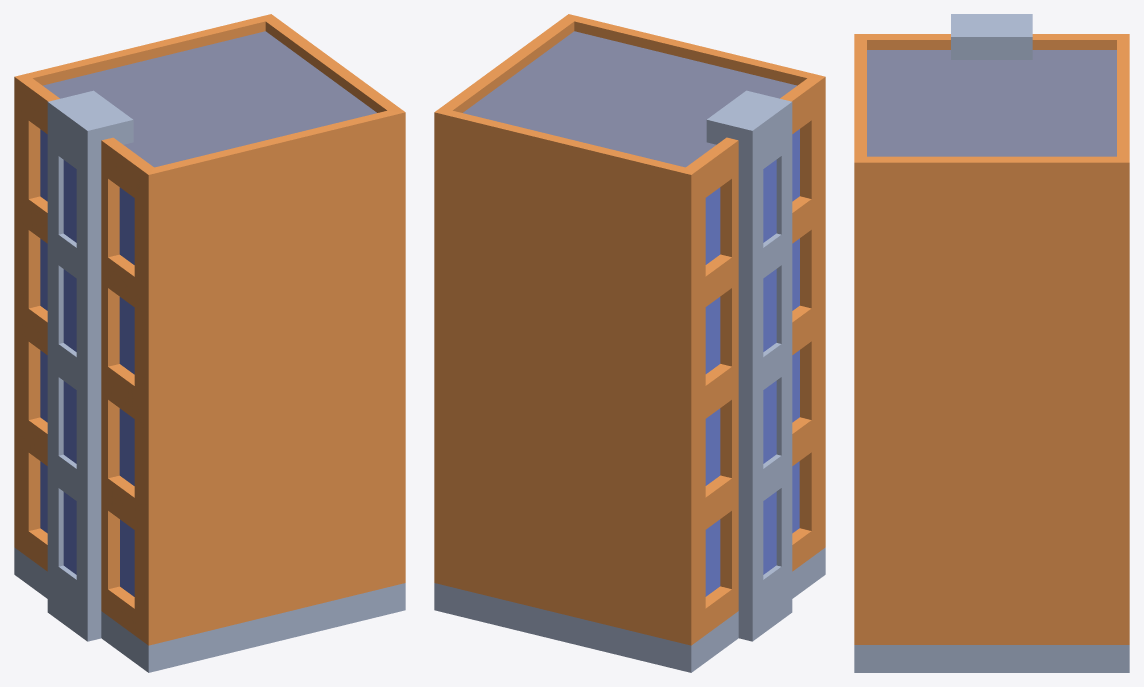
Rendered from House 4.fbx.
3 views of the same model, side by side, from view 1: azimuth 30°, elevation 25°; view 2: azimuth 150°, elevation 25°; view 3: azimuth 270°, elevation 25° (orthographic). The views are drawn at different scales.
Visible parts, largest first — view 1: house 4; view 2: house 4; view 3: house 4.
Part boxes in pixels (x1,y1,x2,y2): house 4: [14, 14, 405, 672]; house 4: [434, 14, 825, 672]; house 4: [854, 14, 1129, 672].
Size of the model in its own units: 992 by 1787 by 852.
1 material, 1 textured.
